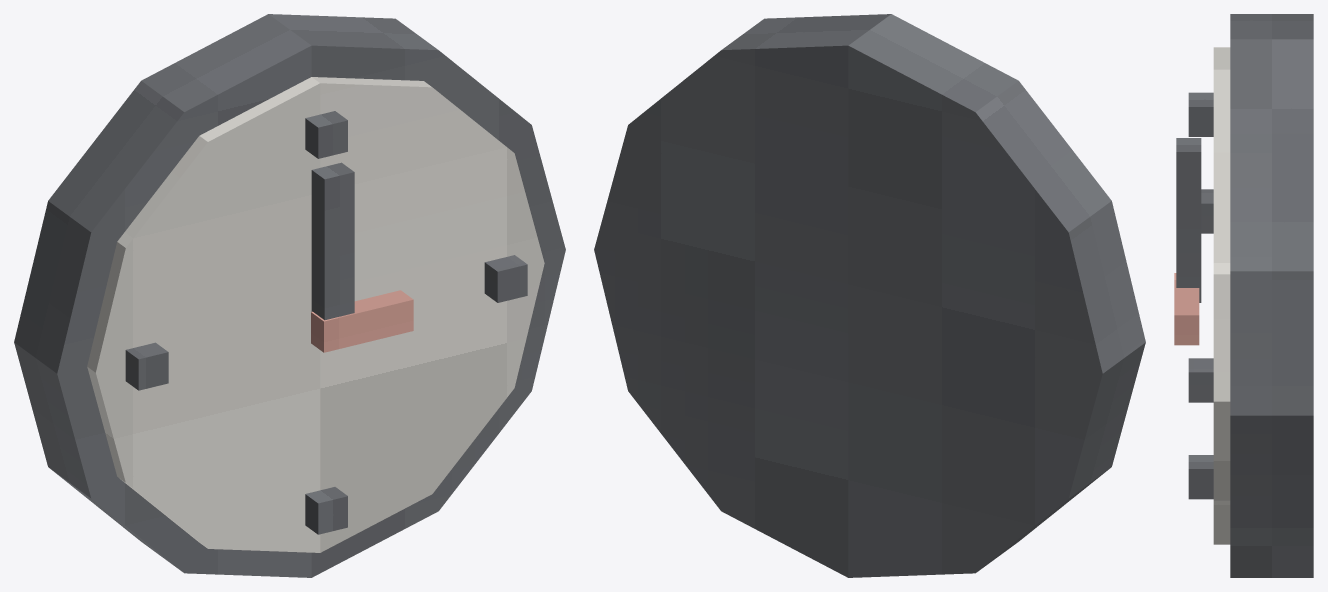
File: pixel-modern-office-wall-clock-3f563fbb.glb
3 renders of one model, left to right at view 1: azimuth 30°, elevation 25°; view 2: azimuth 150°, elevation 25°; view 3: azimuth 270°, elevation 25°, orthographic. The views are drawn at different scales.
Parts seen in each view (by area): view 1: wall-clock, hands/charcoal, hands/coral; view 2: wall-clock; view 3: wall-clock, hands/charcoal, hands/coral.
Part boxes in pixels (<box>): wall-clock: <box>14,14,565,577</box>; hands/charcoal: <box>311,162,354,320</box>; hands/coral: <box>311,290,413,352</box>; wall-clock: <box>594,14,1145,577</box>; wall-clock: <box>1188,14,1313,577</box>; hands/charcoal: <box>1176,138,1201,302</box>; hands/coral: <box>1174,273,1199,345</box>.
Size of the model in its own units: 0.34 by 0.34 by 0.0837.
Materials: 3 (3 with a texture image).
